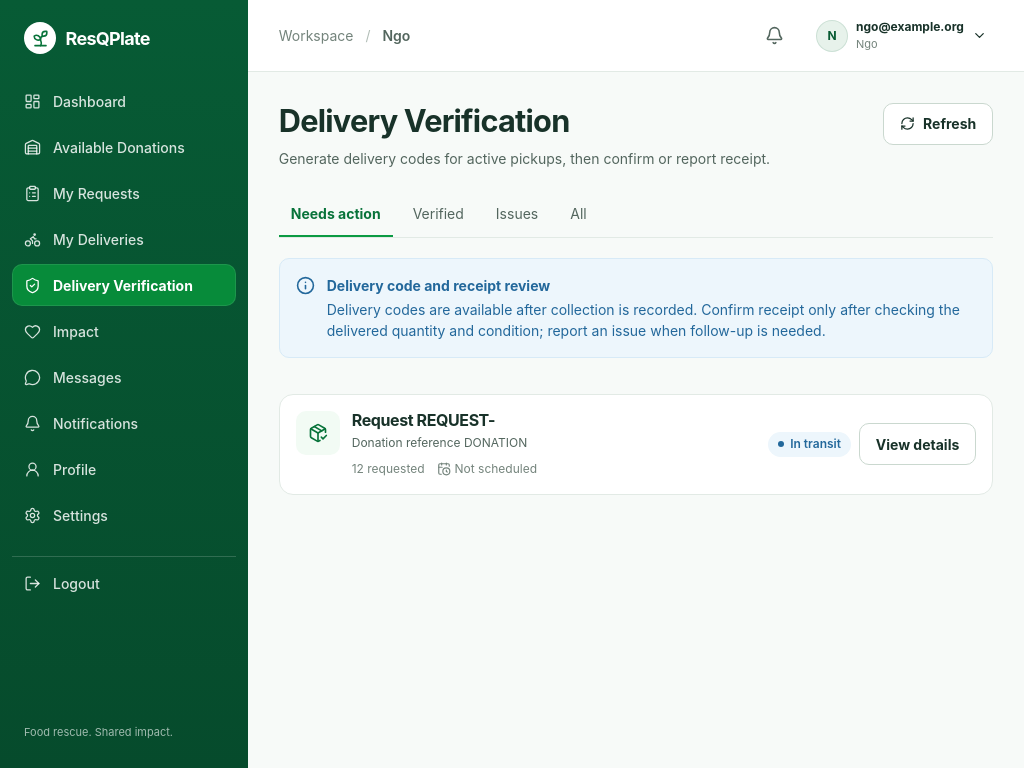
Test case: NGO in-app delivery verification › lists collected pickups awaiting an OTP in Delivery Verification
This screenshot has width=1024, height=768.
Click the link "View details". click: (918, 444)
box: x1=859 y1=423 x2=976 y2=465
(page scrolled)
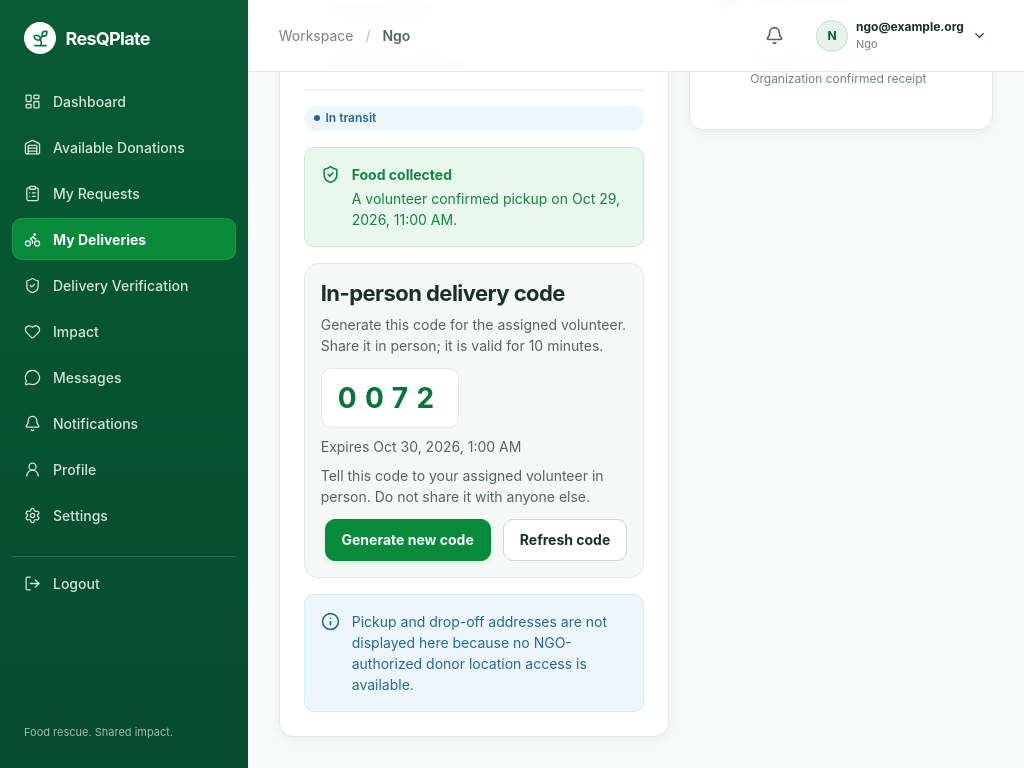
Result: the text named "Active delivery code" reads "0072" at x1=338 y1=381 x2=442 y2=415
